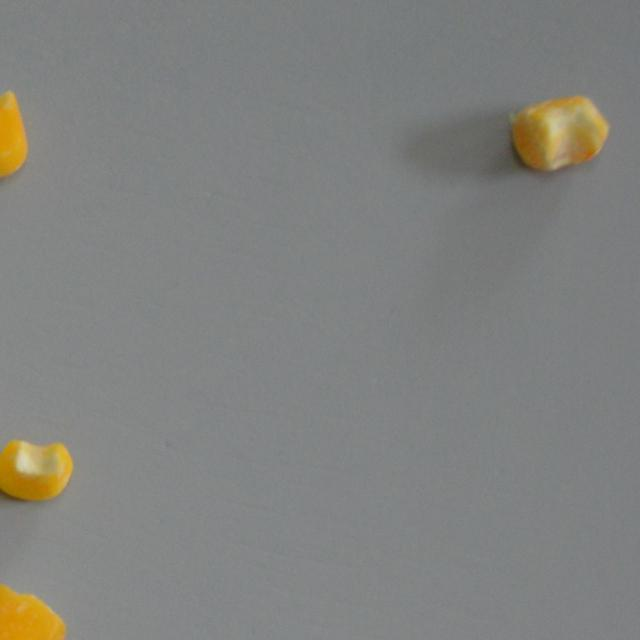no_canjicado: (0, 434, 74, 504), (0, 580, 66, 640), (0, 86, 28, 181)
pelicula: (510, 94, 608, 172)
